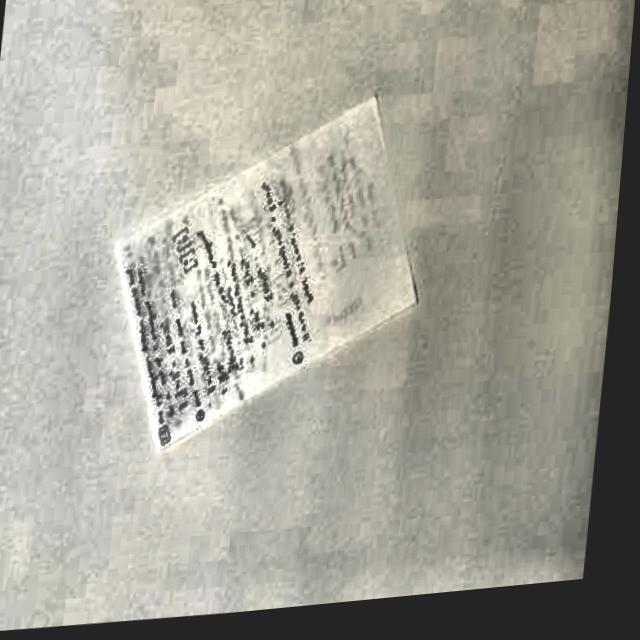Paper: (88, 78, 453, 479)
